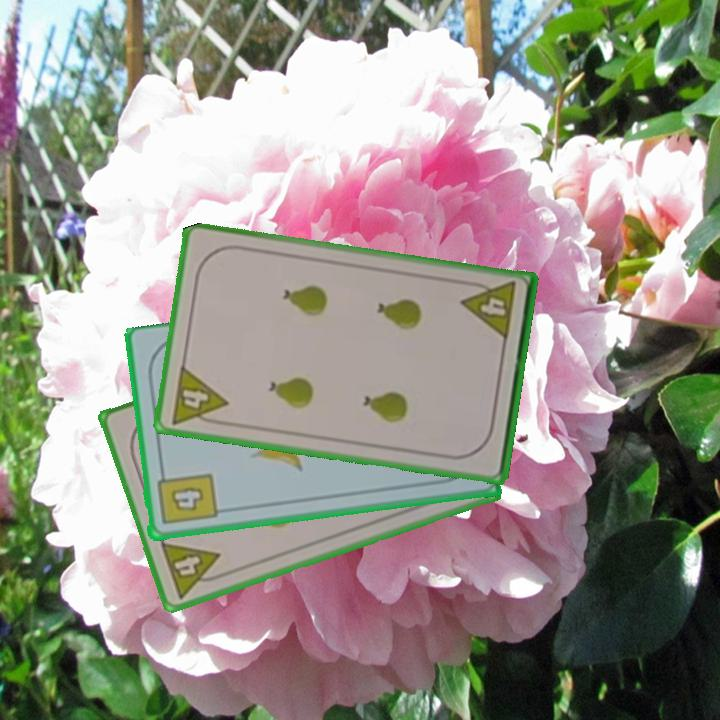4b: (153, 466, 219, 528)
4p: (157, 538, 229, 602), (167, 362, 230, 429), (458, 278, 519, 343)
